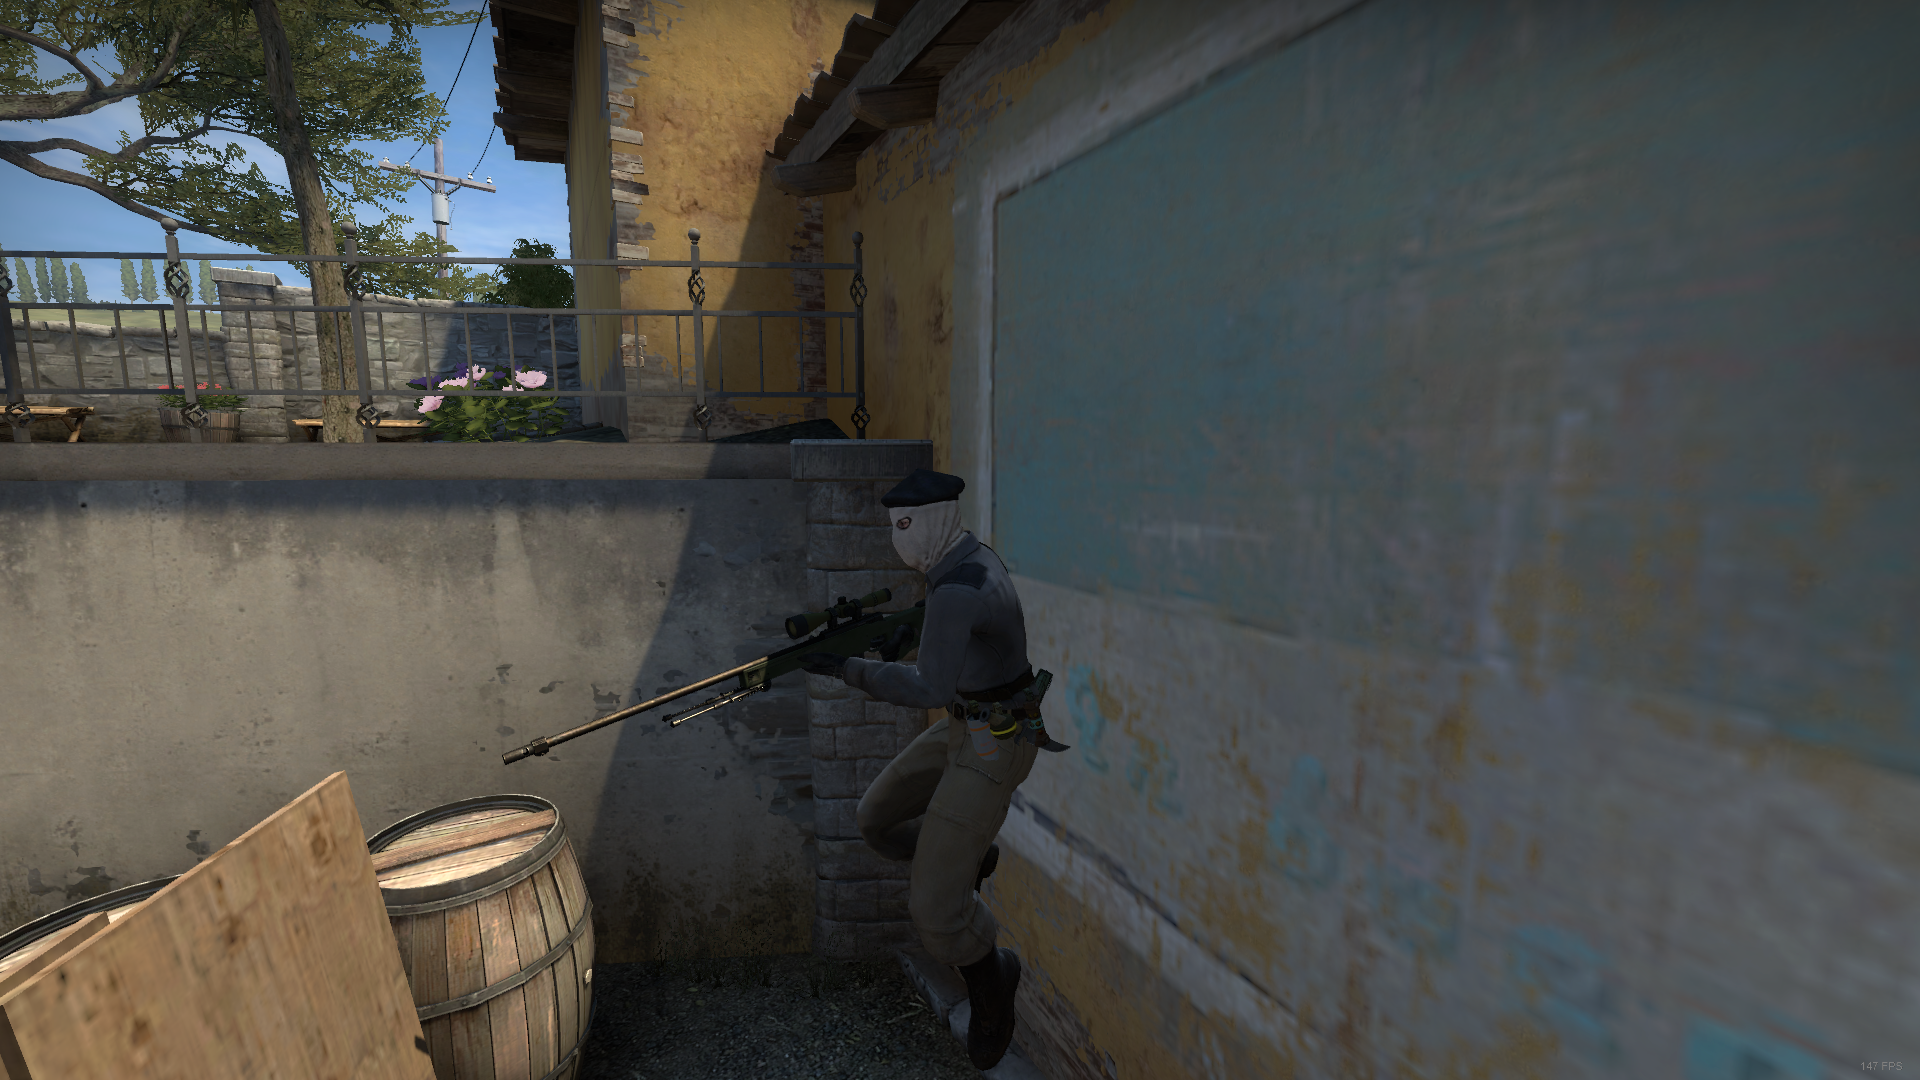t: (843, 467, 1065, 1077)
